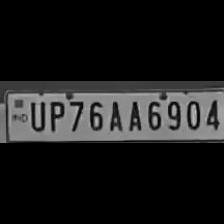0: (183, 96, 201, 130)
4: (202, 97, 220, 131)
6: (142, 96, 162, 132), (85, 98, 105, 132)
7: (64, 97, 84, 132)
9: (164, 98, 182, 132)
A: (106, 98, 124, 132), (124, 96, 140, 132)
P: (45, 98, 65, 132)
U: (27, 98, 46, 132)
